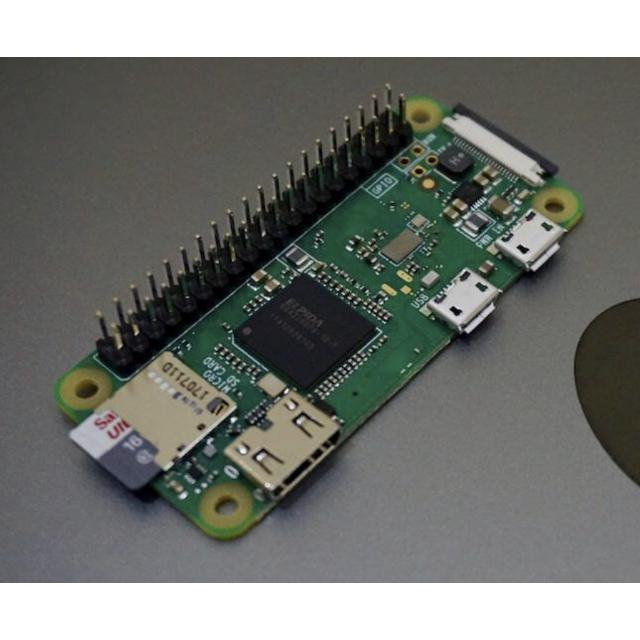Raspberry-Pi-Zero-WH: (56, 87, 583, 539)
